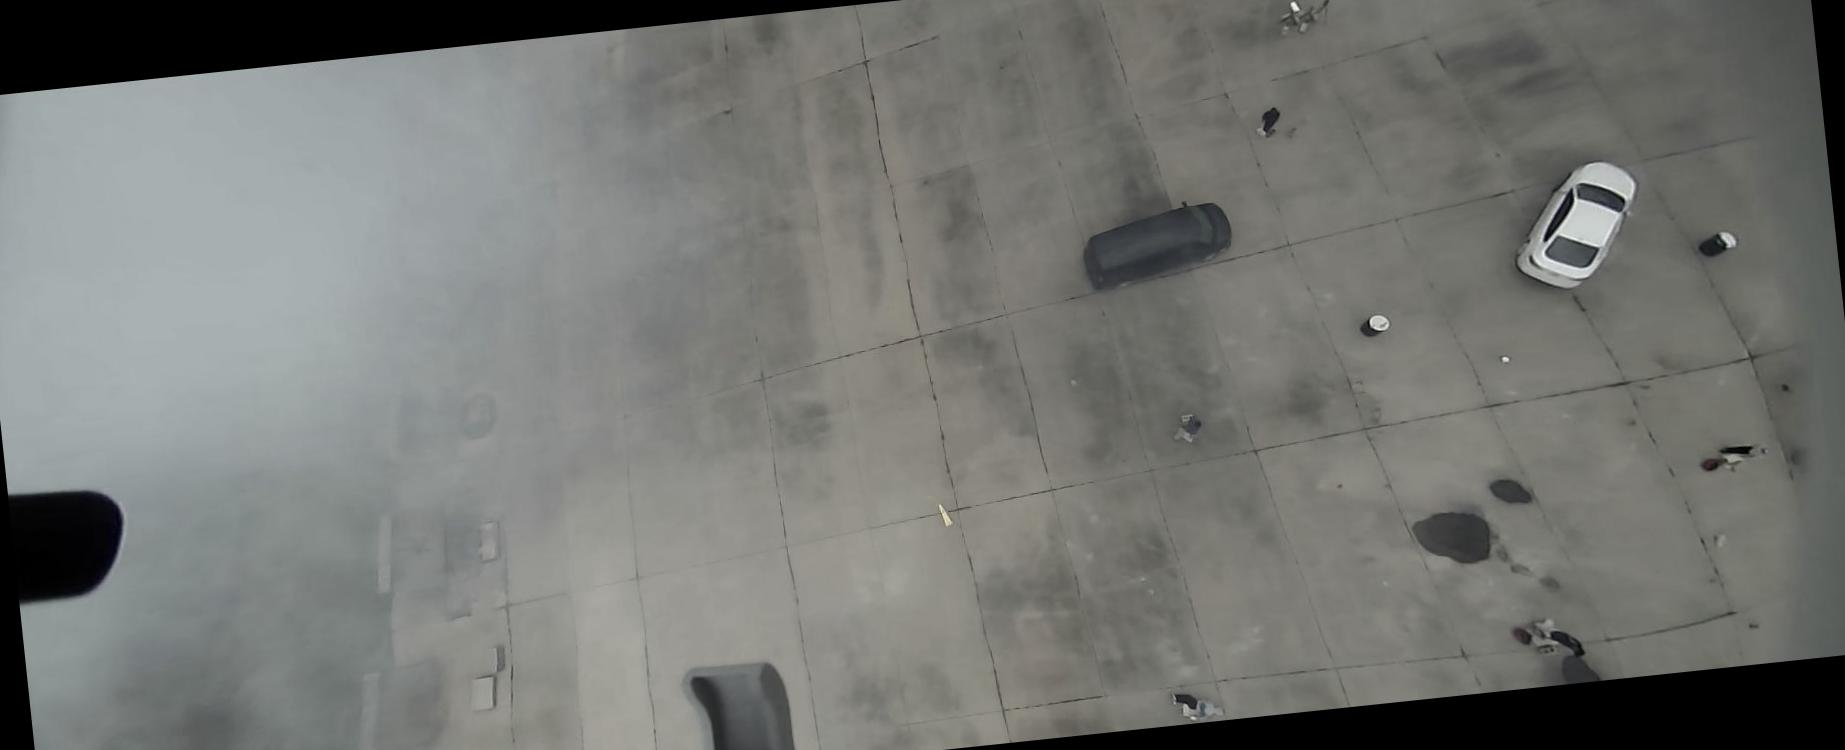vehicle: (1505, 158, 1648, 294), (1077, 195, 1239, 292)
